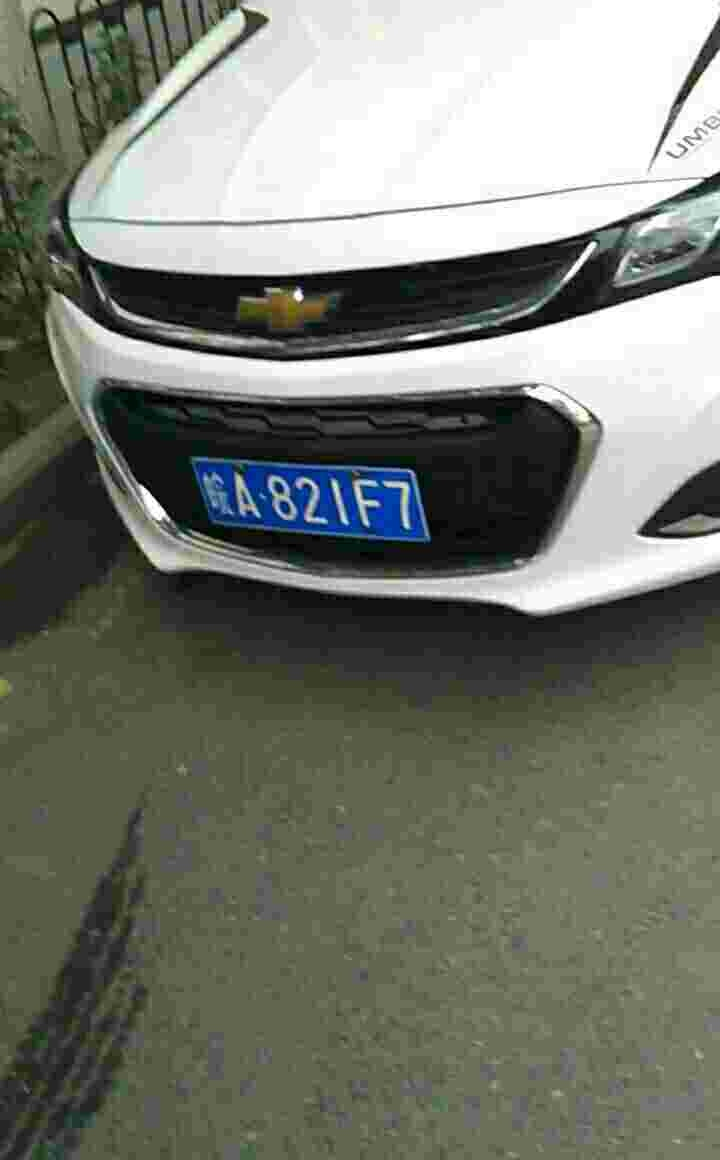plate: (188, 454, 432, 544)
